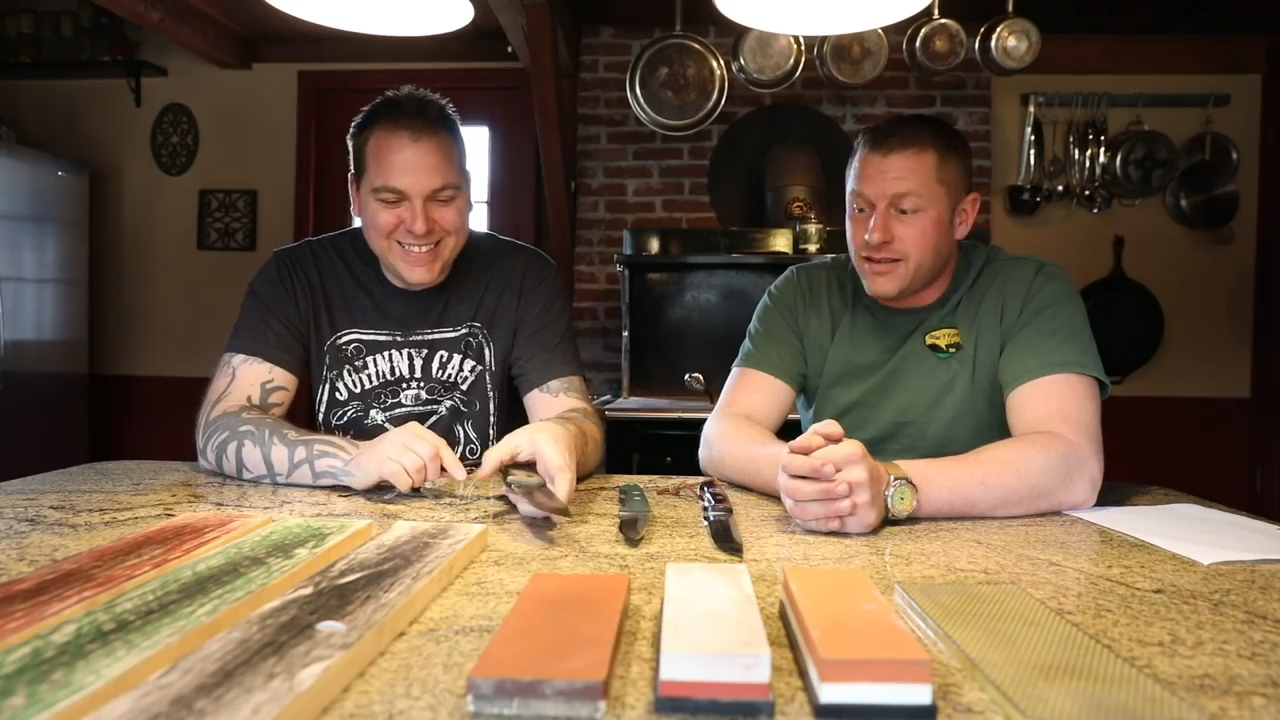knife: (480, 424, 585, 536)
